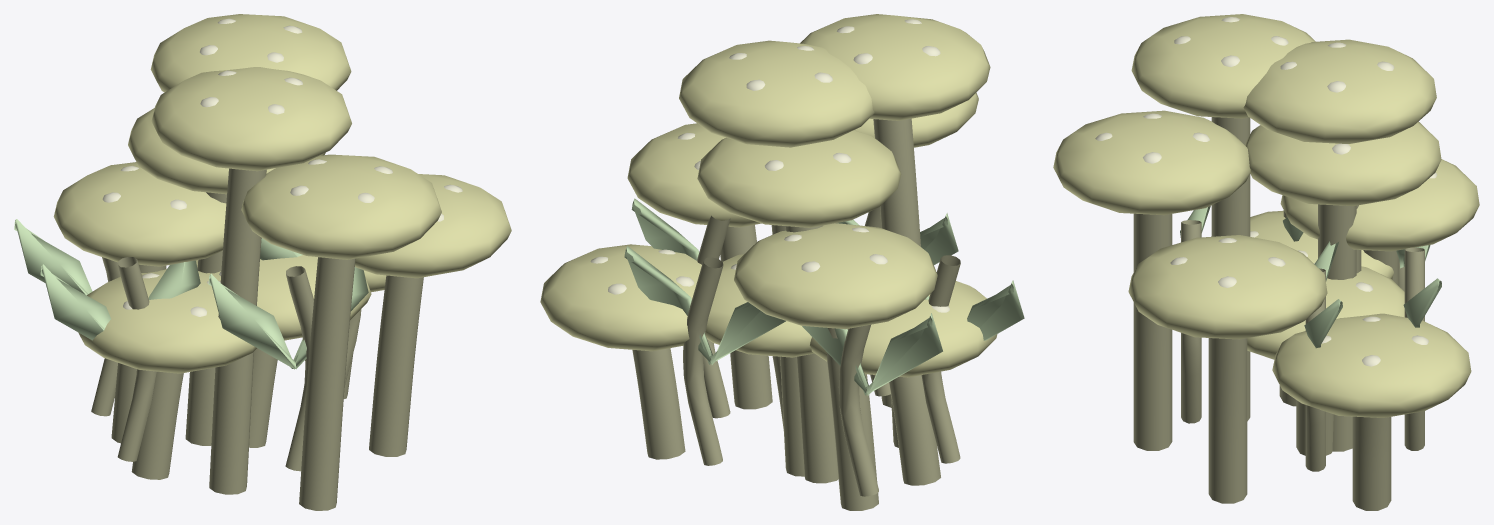
Rendered from bio_spore_fungus_17_far.glb.
3 renders of one model, left to right at view 1: azimuth 30°, elevation 25°; view 2: azimuth 150°, elevation 25°; view 3: azimuth 270°, elevation 25°, orthographic.
Visible parts, largest first — view 1: Thick umbrella cap.007, Thick umbrella cap.002, Thick umbrella cap.001, Thick umbrella cap.004, Thick umbrella cap.003, Curved stipe.002, Curved stipe.007, Thick umbrella cap.005, Curved stipe.005, Secondary fan lobe.004, Secondary fan lobe.008, Thick umbrella cap.006 (+9 smaller); view 2: Thick umbrella cap.001, Thick umbrella cap.003, Thick umbrella cap.006, Thick umbrella cap.007, Thick umbrella cap.008, Thick umbrella cap.005, Thick umbrella cap.004, Branching support.003, Curved stipe.006, Curved stipe.008, Curved stipe.004, Secondary fan lobe.006 (+13 smaller); view 3: Thick umbrella cap.005, Thick umbrella cap.002, Thick umbrella cap.008, Thick umbrella cap.003, Thick umbrella cap.007, Thick umbrella cap.006, Thick umbrella cap.001, Curved stipe.002, Curved stipe.005, Thick umbrella cap, Curved stipe.008, Curved stipe.003 (+13 smaller).
Part boxes in pixels (x1=…): Thick umbrella cap.007: x1=151, y1=67, x2=351, y2=171; Thick umbrella cap.002: x1=241, y1=154, x2=441, y2=259; Thick umbrella cap.001: x1=53, y1=162, x2=226, y2=266; Thick umbrella cap.004: x1=78, y1=268, x2=259, y2=373; Thick umbrella cap.003: x1=150, y1=14, x2=351, y2=92; Curved stipe.002: x1=299, y1=257, x2=355, y2=510; Curved stipe.007: x1=209, y1=168, x2=266, y2=494; Thick umbrella cap.005: x1=355, y1=174, x2=511, y2=278; Curved stipe.005: x1=369, y1=275, x2=423, y2=456; Secondary fan lobe.004: x1=208, y1=267, x2=368, y2=369; Secondary fan lobe.008: x1=40, y1=260, x2=200, y2=340; Thick umbrella cap.006: x1=128, y1=108, x2=325, y2=194; Thick umbrella cap.001: x1=734, y1=223, x2=937, y2=329; Thick umbrella cap.003: x1=679, y1=40, x2=874, y2=147; Thick umbrella cap.006: x1=697, y1=130, x2=901, y2=227; Thick umbrella cap.007: x1=800, y1=14, x2=990, y2=120; Thick umbrella cap.008: x1=540, y1=244, x2=701, y2=351; Thick umbrella cap.005: x1=627, y1=123, x2=761, y2=227; Thick umbrella cap.004: x1=810, y1=281, x2=997, y2=377; Branching support.003: x1=683, y1=257, x2=723, y2=465; Curved stipe.006: x1=785, y1=225, x2=838, y2=483; Curved stipe.008: x1=632, y1=348, x2=685, y2=459; Curved stipe.004: x1=889, y1=375, x2=940, y2=485; Secondary fan lobe.006: x1=624, y1=246, x2=785, y2=364; Thick umbrella cap.005: x1=1128, y1=235, x2=1327, y2=339; Thick umbrella cap.002: x1=1053, y1=110, x2=1250, y2=215; Thick umbrella cap.008: x1=1272, y1=313, x2=1471, y2=417; Thick umbrella cap.003: x1=1243, y1=39, x2=1436, y2=143; Thick umbrella cap.007: x1=1131, y1=14, x2=1315, y2=118; Thick umbrella cap.006: x1=1245, y1=121, x2=1441, y2=206; Thick umbrella cap.001: x1=1280, y1=159, x2=1479, y2=251; Curved stipe.002: x1=1133, y1=213, x2=1172, y2=450; Curved stipe.005: x1=1208, y1=338, x2=1247, y2=503; Thick umbrella cap: x1=1247, y1=266, x2=1404, y2=359; Curved stipe.008: x1=1352, y1=416, x2=1391, y2=510; Curved stipe.003: x1=1318, y1=204, x2=1356, y2=451.
Bounding box in the file's own units: 2.16 × 1.92 × 1.88.
